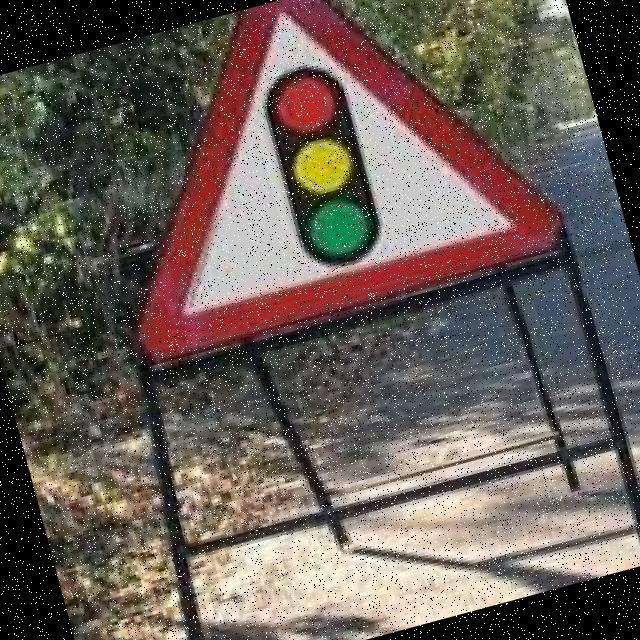light_traffic: (61, 0, 572, 370)
